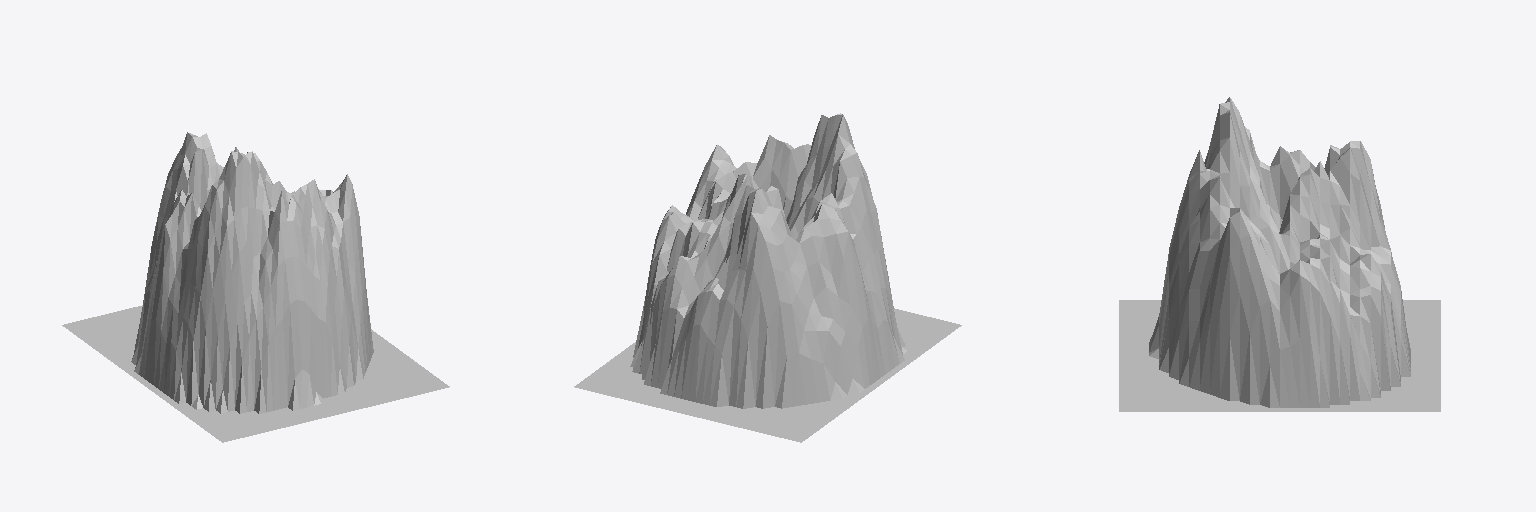
File: mou_009.obj
3 renders of one model, left to right at view 1: azimuth 30°, elevation 25°; view 2: azimuth 150°, elevation 25°; view 3: azimuth 270°, elevation 25°, orthographic.
Visible parts, largest first — view 1: 平面.002; view 2: 平面.002; view 3: 平面.002.
Part boxes in pixels (left/top/right/bottom): 平面.002: left=62, top=132, right=449, bottom=442; 平面.002: left=574, top=113, right=961, bottom=442; 平面.002: left=1119, top=97, right=1440, bottom=411.
Size of the model in its own units: 6.19 by 7.03 by 7.57.